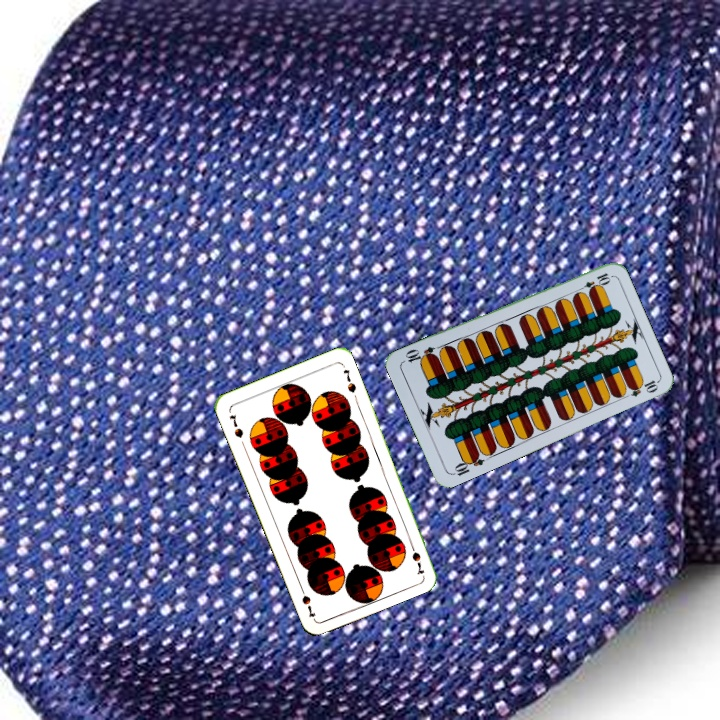E10: (448, 449, 487, 479), (574, 269, 613, 295)
S7: (406, 537, 427, 577), (225, 410, 246, 440)
